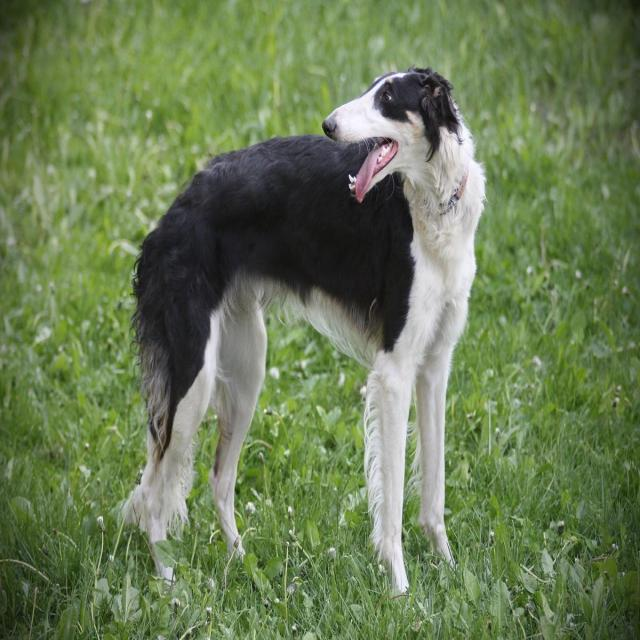dog: (267, 16, 510, 302)
